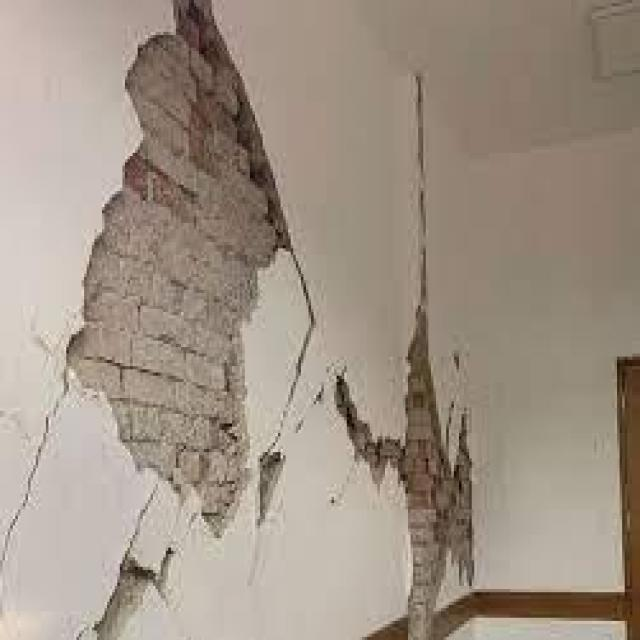damage: (38, 0, 318, 547), (319, 271, 486, 638), (395, 64, 452, 278), (79, 554, 196, 640)
